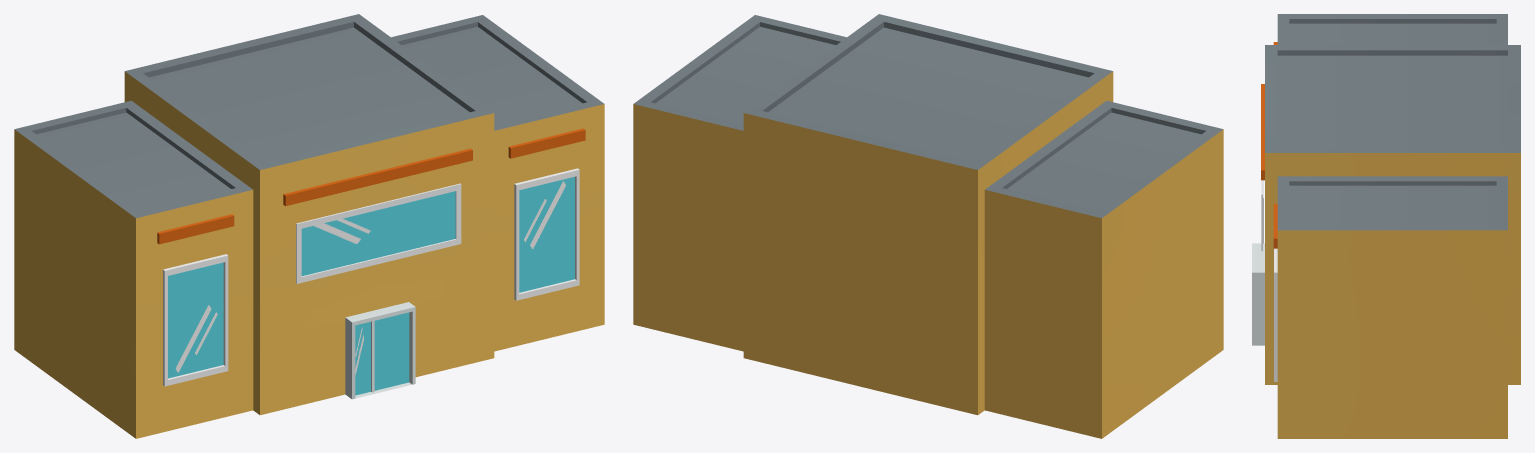
File: building1.fbx
3 renders of one model, left to right at view 1: azimuth 30°, elevation 25°; view 2: azimuth 150°, elevation 25°; view 3: azimuth 270°, elevation 25°, orthographic. The views are drawn at different scales.
Visible parts, largest first — view 1: Cube.006, Cube.010, Cube.009, Cube.007, Cube.008; view 2: Cube.006; view 3: Cube.006, Cube.009, Cube.010, Cube.007.
Part boxes in pixels (box(x1,y1,x2,y2)): Cube.006: box(14, 14, 604, 438); Cube.010: box(163, 168, 579, 386); Cube.009: box(345, 302, 415, 399); Cube.007: box(283, 148, 472, 206); Cube.008: box(157, 128, 585, 244); Cube.006: box(633, 14, 1223, 438); Cube.006: box(1265, 14, 1520, 438); Cube.009: box(1252, 243, 1264, 345); Cube.010: box(1261, 180, 1277, 381); Cube.007: box(1261, 84, 1264, 180).
Size of the model in its own units: 28 by 14 by 14.7.
1 material, 1 textured.
